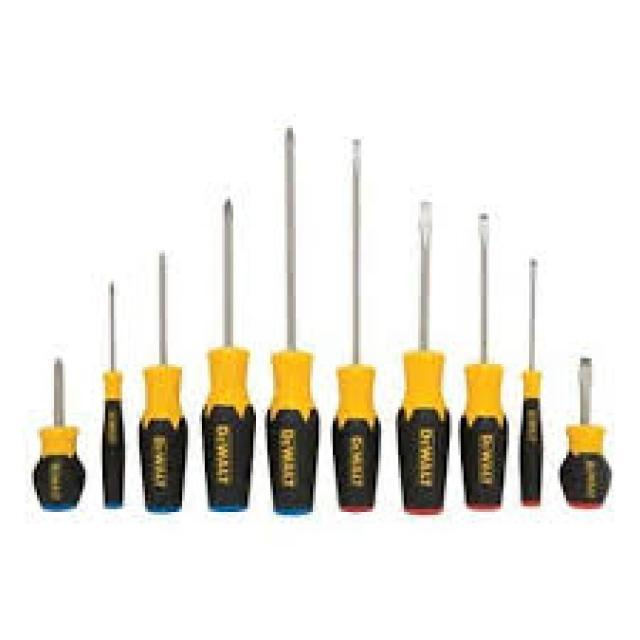screwdriver: (262, 126, 324, 516), (327, 135, 387, 516), (388, 189, 454, 519), (199, 194, 256, 520), (457, 210, 508, 520), (135, 249, 192, 519), (552, 350, 614, 515), (30, 356, 87, 518), (516, 254, 548, 510), (94, 278, 128, 510)
